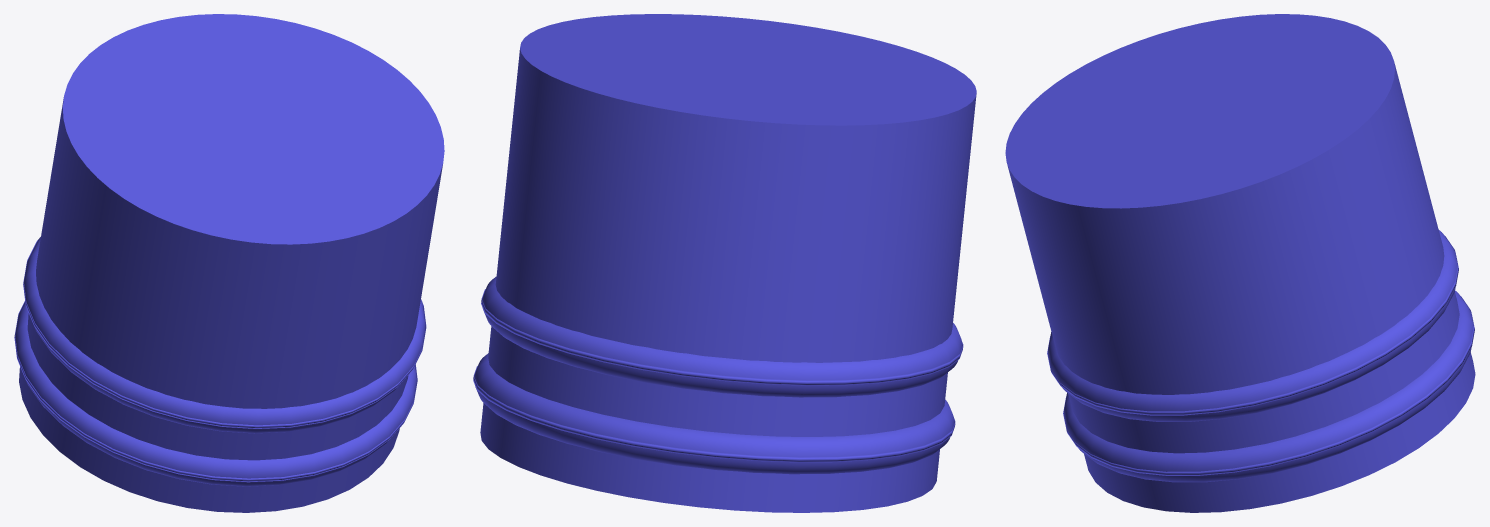
The model's file is bombilla212.obj.
The picture shows the model from 3 angles, left to right: view 1: azimuth 30°, elevation 25°; view 2: azimuth 150°, elevation 25°; view 3: azimuth 270°, elevation 25°; orthographic projection. The views are drawn at different scales.
Parts seen in each view (by area): view 1: Cylinder001, Cylinder004, Cylinder002, Cylinder003, Cylinder006; view 2: Cylinder001, Cylinder003, Cylinder004, Cylinder006, Cylinder002; view 3: Cylinder001, Cylinder004, Cylinder003, Cylinder002, Cylinder006.
Part boxes in pixels (x1,y1,x2,y2): Cylinder001: (36, 14, 444, 408); Cylinder004: (14, 301, 417, 486); Cylinder002: (23, 237, 426, 433); Cylinder003: (27, 313, 408, 460); Cylinder006: (19, 366, 399, 512); Cylinder001: (495, 14, 976, 362); Cylinder003: (488, 326, 947, 436); Cylinder004: (473, 353, 955, 474); Cylinder006: (480, 403, 939, 512); Cylinder002: (481, 276, 963, 397); Cylinder001: (1005, 14, 1444, 394); Cylinder004: (1063, 290, 1474, 482); Cylinder003: (1068, 292, 1459, 453); Cylinder002: (1047, 230, 1458, 421); Cylinder006: (1084, 352, 1475, 512).
Size of the model in its own units: 72.45 by 73.78 by 80.37.
